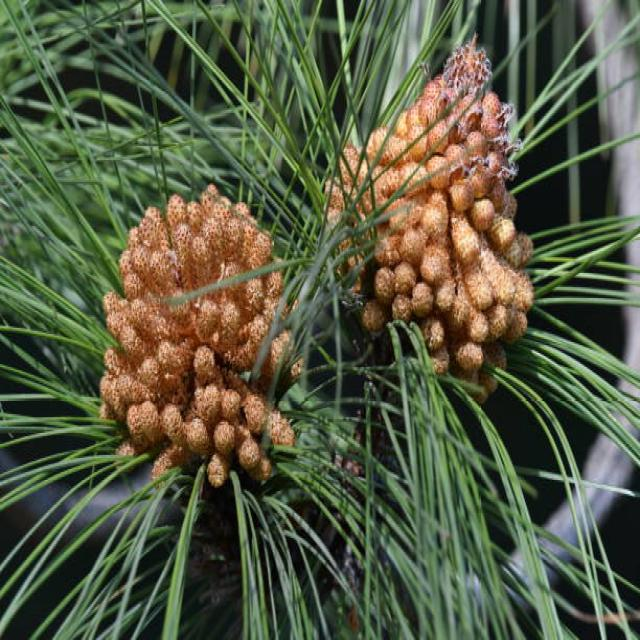Pine: (33, 49, 405, 498), (332, 14, 614, 568), (84, 195, 369, 524)
